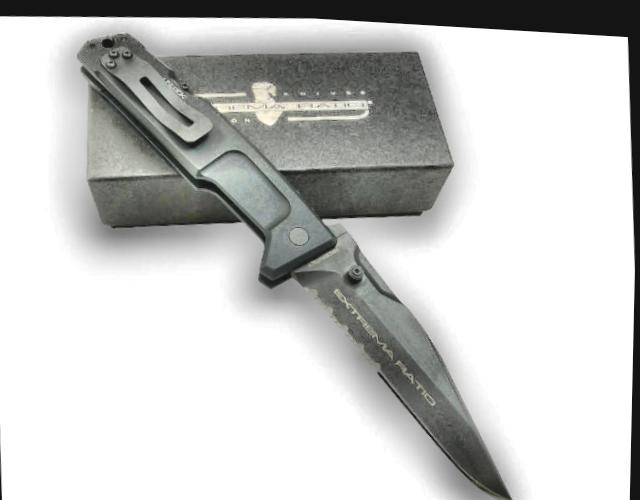knife: (245, 201, 529, 500)
